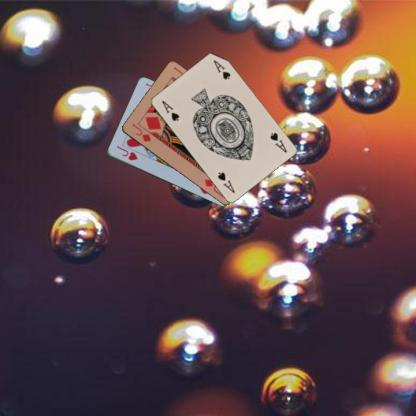As: (159, 98, 180, 122), (267, 130, 288, 154)
Jd: (129, 121, 152, 143)
Jh: (113, 142, 138, 161)
